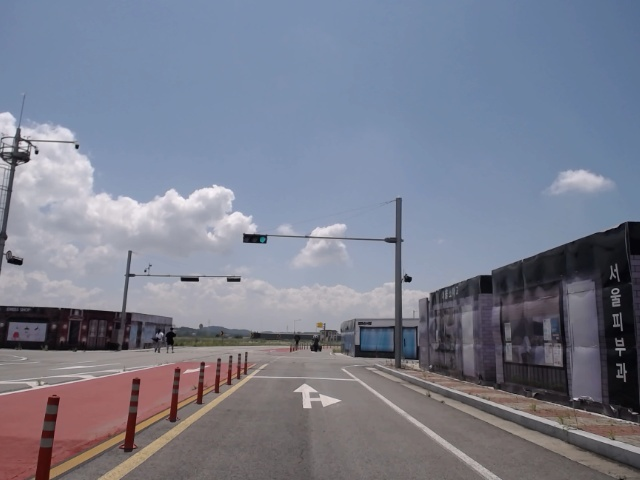green_3: (244, 235, 267, 243)
